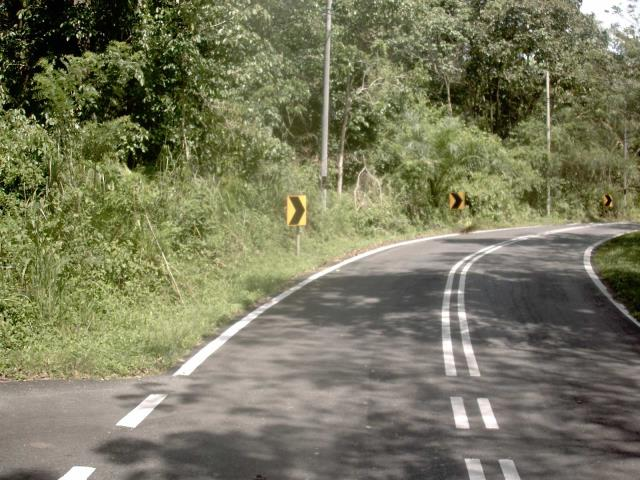traffic_sign: (278, 187, 315, 234)
